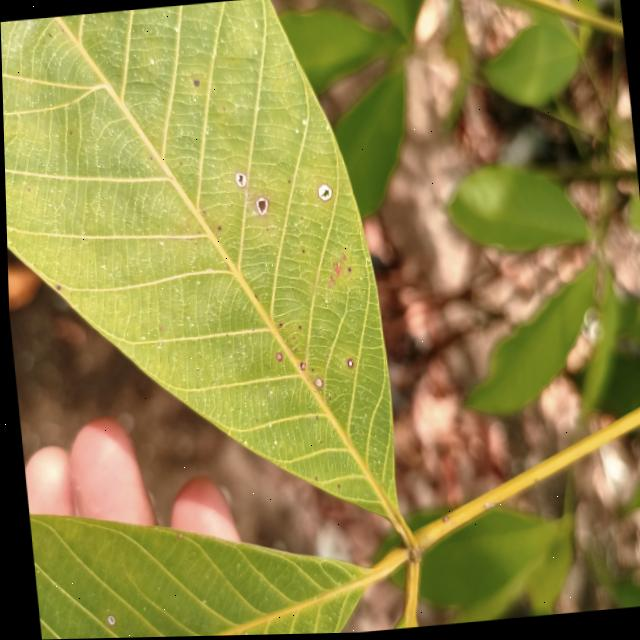Colletotrichum: (314, 184, 331, 204), (252, 197, 267, 216), (233, 173, 246, 189), (311, 379, 320, 389), (272, 353, 280, 363), (343, 360, 350, 368), (192, 81, 198, 87), (345, 269, 347, 273)
